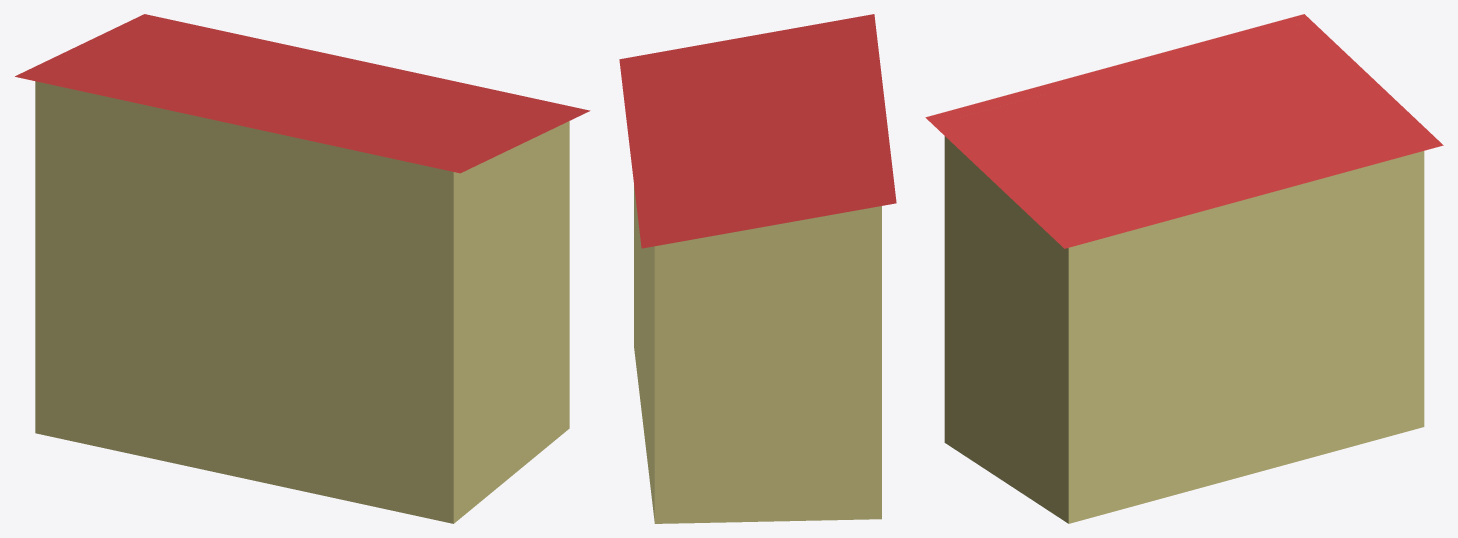
3 renders of one model, left to right at view 1: azimuth 30°, elevation 25°; view 2: azimuth 150°, elevation 25°; view 3: azimuth 270°, elevation 25°, orthographic. The views are drawn at different scales.
Size of the model in its own units: 8.2 by 9.23 by 6.36.
